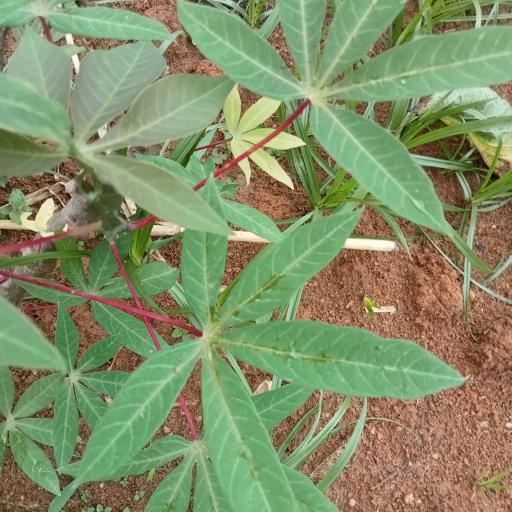Cassava_Mosaic: (78, 207, 471, 512), (6, 26, 248, 242)
